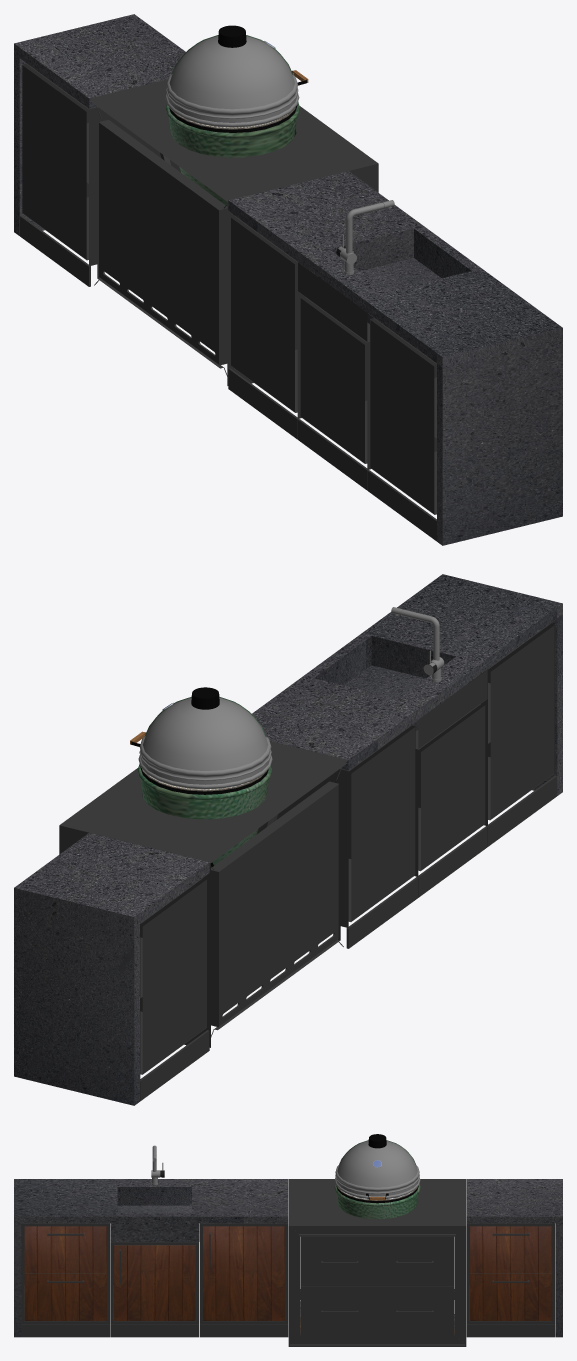
Rendered from Gardenzio_modely_FIN_samostatne2.gltf.
3 renders of one model, top to bottom at view 1: azimuth 30°, elevation 25°; view 2: azimuth 150°, elevation 25°; view 3: azimuth 270°, elevation 25°, orthographic. The views are drawn at different scales.
Parts seen in each view (by area): view 1: object 43, object 53, object 56, object 37, Cover Body, object 85, object 46, object 7, object 78, object 55, Lower Body, object 76 (+11 smaller); view 2: object 43, object 50, object 56, object 37, object 78, Cover Body, object 46, object 85, object 7, object 55, Lower Body, object 76 (+11 smaller); view 3: object 43, object 37, object 48, object 2, object 80, object 87, object 86, object 45, object 78, Cover Body, Lower Body, object 3 (+5 smaller).
Part boxes in pixels (<box>): object 43: <box>228,171,562,367</box>; object 53: <box>437,338,562,545</box>; object 56: <box>99,122,218,364</box>; object 37: <box>90,79,378,385</box>; Cover Body: <box>165,25,299,127</box>; object 85: <box>370,320,434,513</box>; object 46: <box>231,218,294,411</box>; object 7: <box>22,65,86,259</box>; object 78: <box>14,14,185,108</box>; object 55: <box>300,298,364,463</box>; Lower Body: <box>165,102,300,205</box>; object 76: <box>57,91,86,259</box>; object 43: <box>252,574,562,770</box>; object 50: <box>14,898,139,1105</box>; object 56: <box>219,784,338,1026</box>; object 37: <box>59,741,347,1050</box>; object 78: <box>14,833,209,927</box>; Cover Body: <box>138,687,272,789</box>; object 46: <box>351,727,415,921</box>; object 85: <box>490,625,554,819</box>; object 7: <box>142,880,206,1073</box>; object 55: <box>421,705,485,870</box>; Lower Body: <box>137,764,271,865</box>; object 76: <box>177,880,206,1048</box>; object 43: <box>14,1179,288,1241</box>; object 37: <box>288,1179,466,1346</box>; object 48: <box>199,1223,288,1323</box>; object 2: <box>466,1223,555,1323</box>; object 80: <box>21,1223,109,1323</box>; object 87: <box>300,1236,454,1286</box>; object 86: <box>300,1286,454,1335</box>; object 45: <box>110,1242,198,1323</box>; object 78: <box>466,1179,562,1223</box>; Cover Body: <box>334,1134,420,1198</box>; Lower Body: <box>334,1184,420,1219</box>; object 3: <box>466,1324,555,1337</box>.
Size of the model in its own units: 0.775 by 1.38 by 3.7.
Materials: 18 (15 with a texture image).
